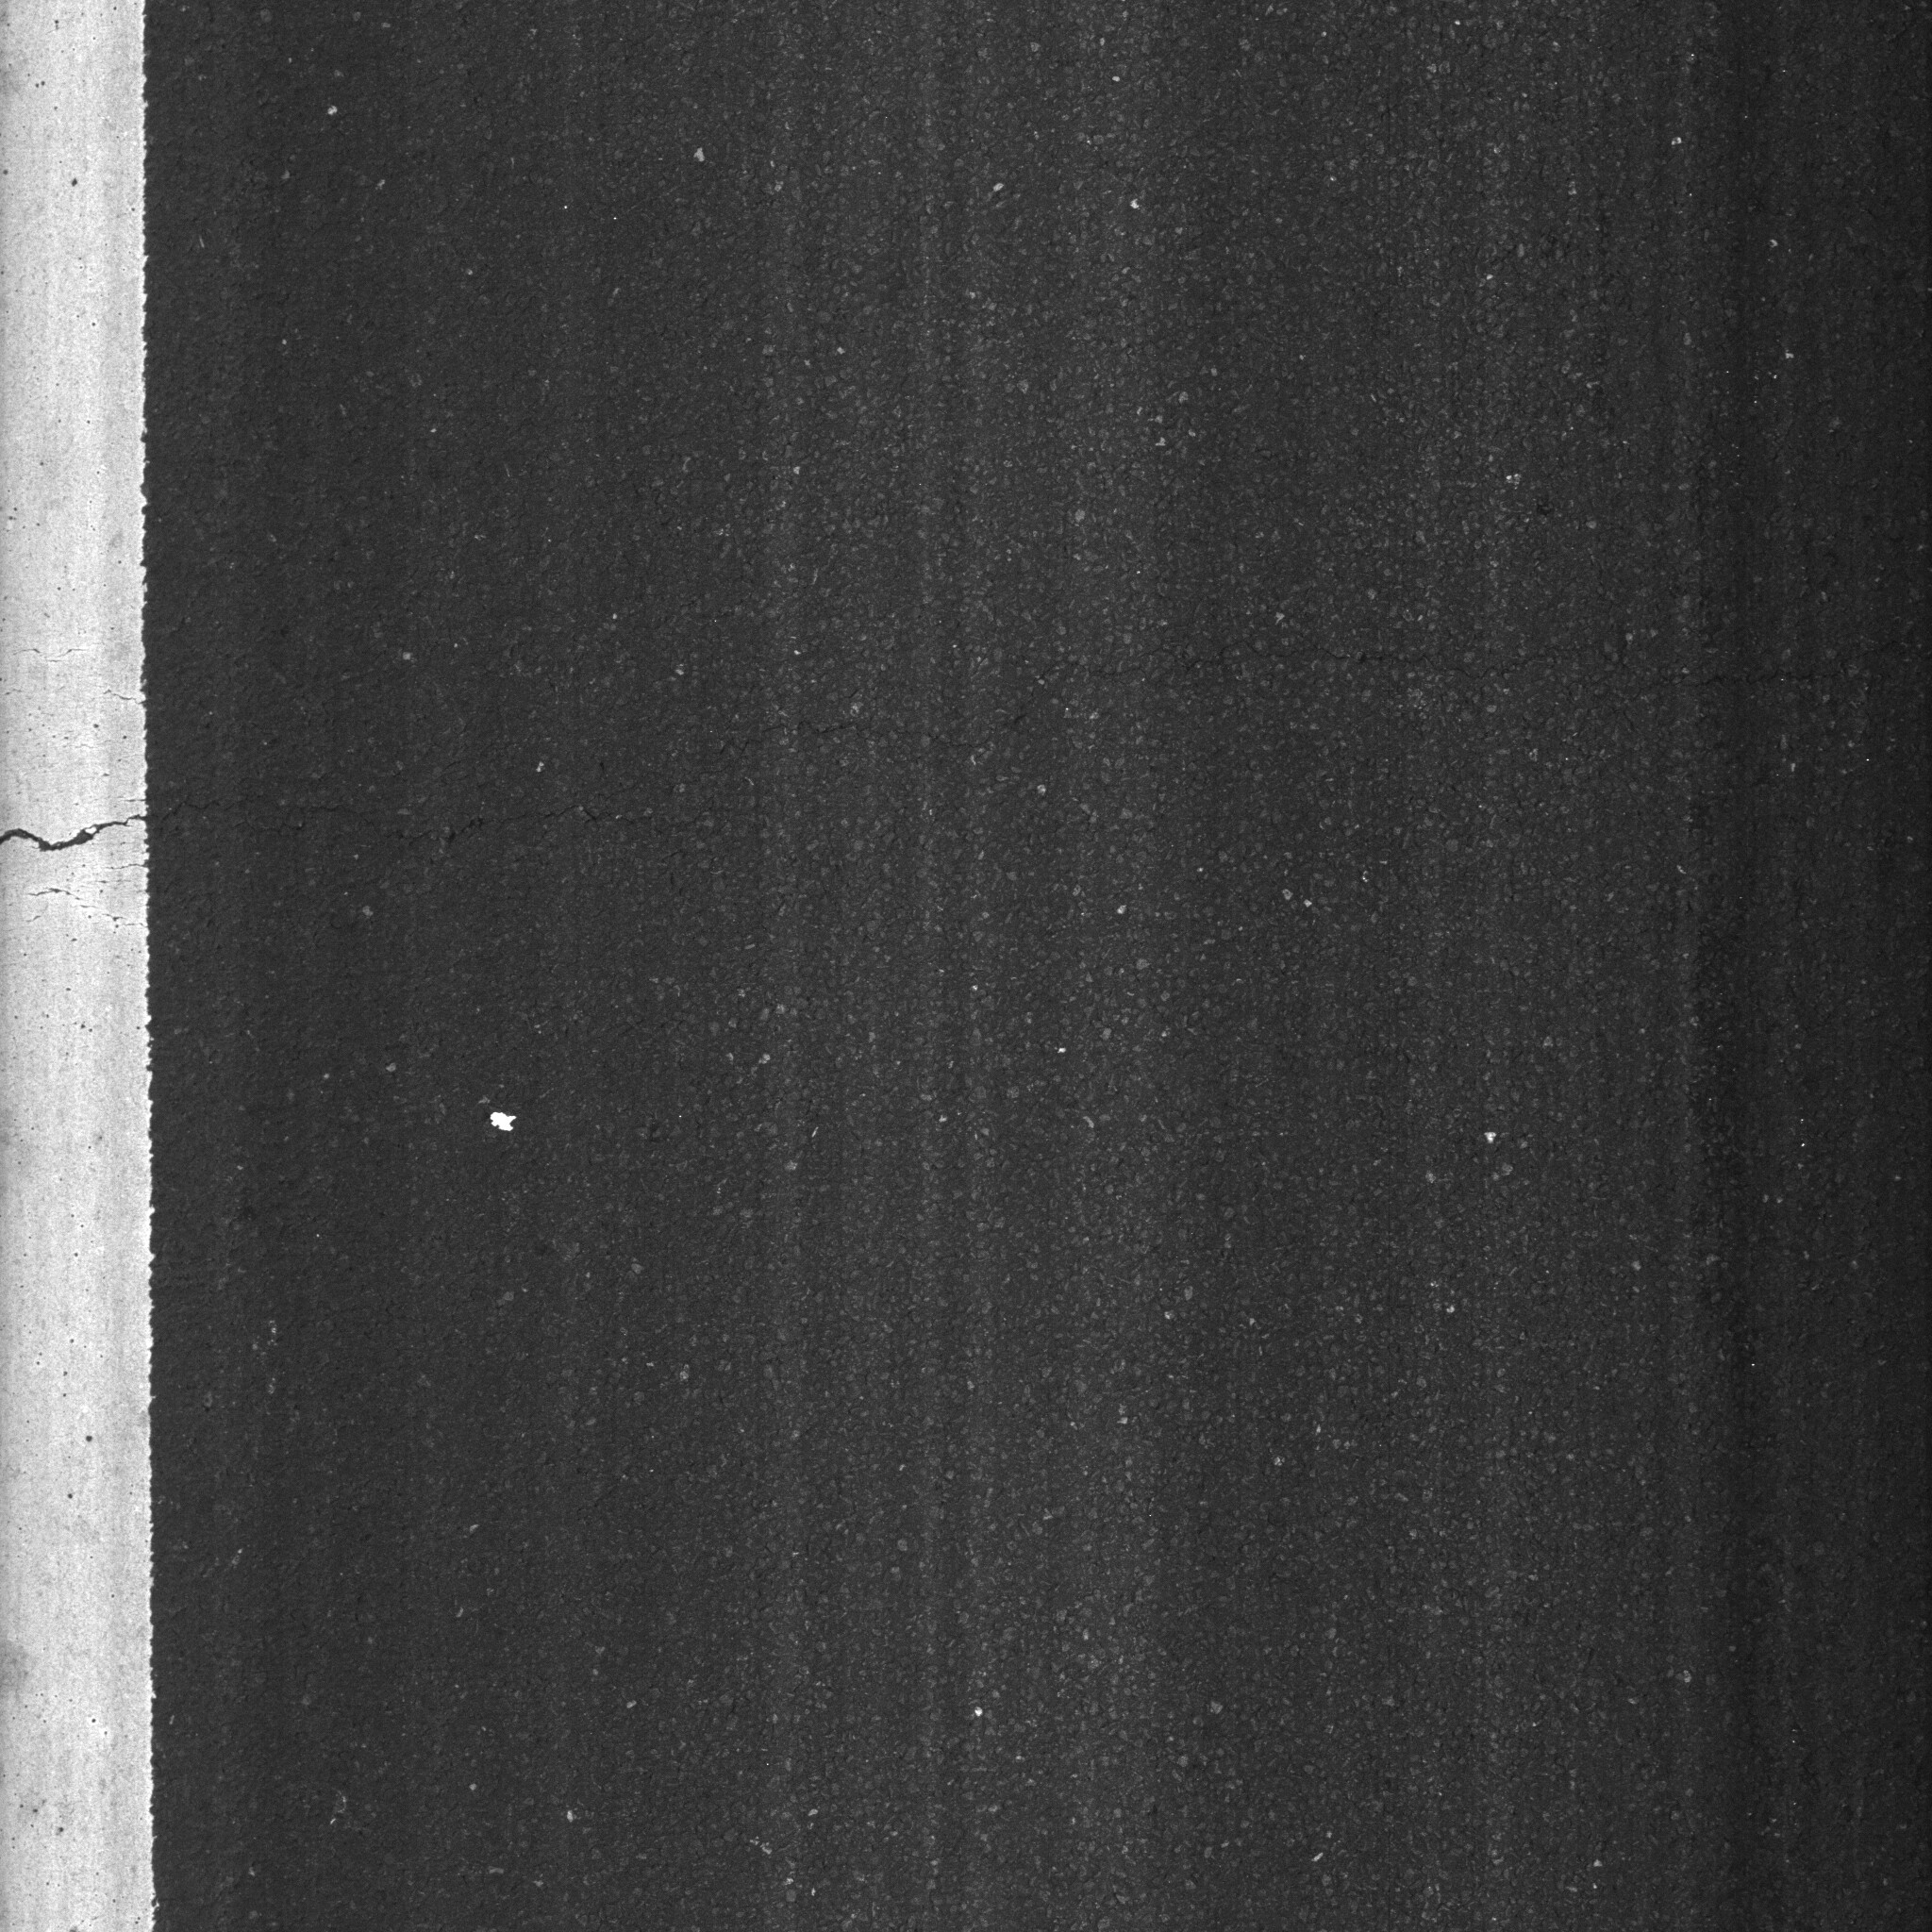transeverse: (4, 619, 1927, 876)
